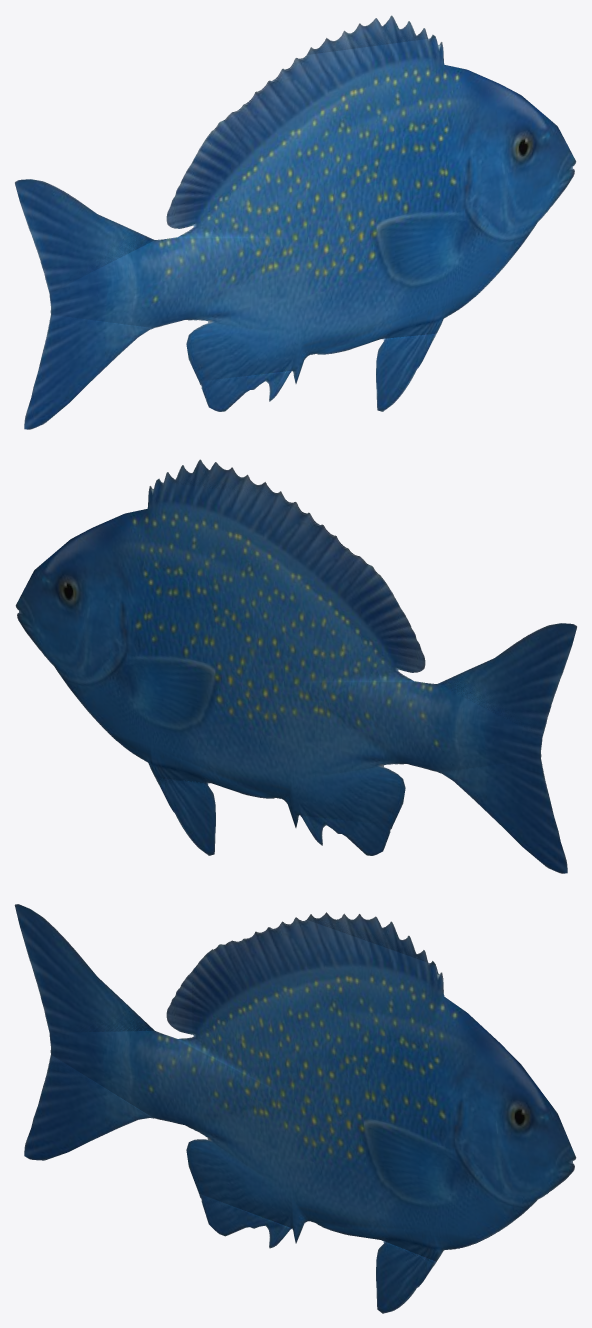
Rendered from SM_BlueFish.fbx.
3 views of the same model, one above another, from view 1: azimuth 30°, elevation 25°; view 2: azimuth 150°, elevation 25°; view 3: azimuth 330°, elevation 25° (orthographic).
Parts seen in each view (by area): view 1: SM_BlueFish; view 2: SM_BlueFish; view 3: SM_BlueFish.
Part boxes in pixels (<box>): SM_BlueFish: <box>15,15,576,429</box>; SM_BlueFish: <box>15,459,576,873</box>; SM_BlueFish: <box>14,904,576,1313</box>.
Bounding box in the file's own units: 150 × 101 × 6.01.
Materials: 1 (1 with a texture image).
